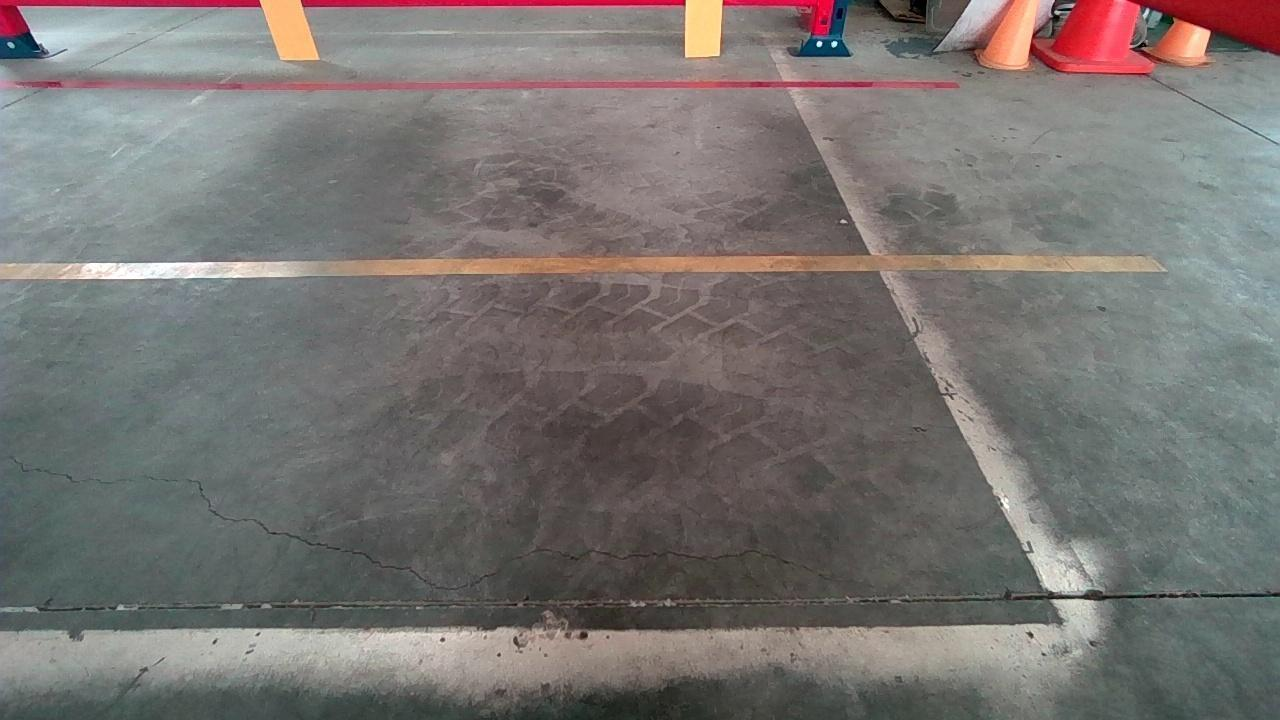red_line: (0, 78, 963, 90)
yellow_line: (0, 251, 1169, 280)
